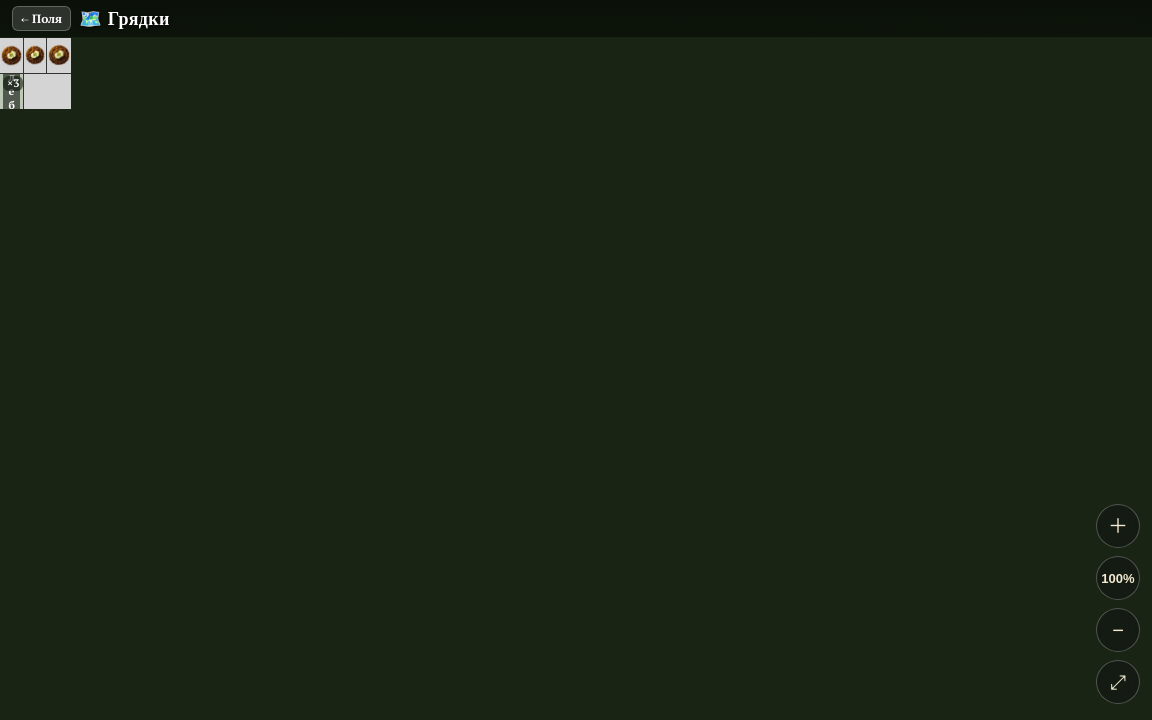
Scenario: FieldPage — care modal states › shows "Узнать норму" button for unrevealed planted plot
Expected: the heading "🗺️ Грядки" is shown, [79,7,170,30]
Click the element showing "🌾 Хлебозлак ×3": (12, 91) [0,74,24,109]
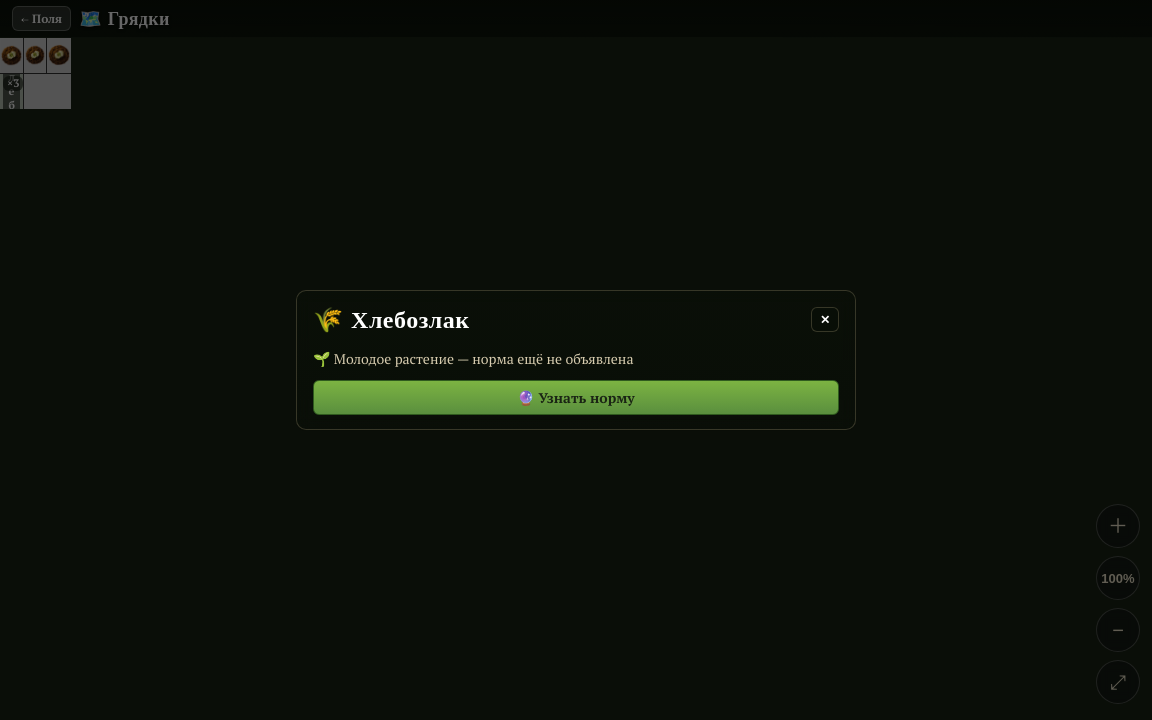
Expected: the button "🔮 Узнать норму" is shown, [313,380,839,415]
